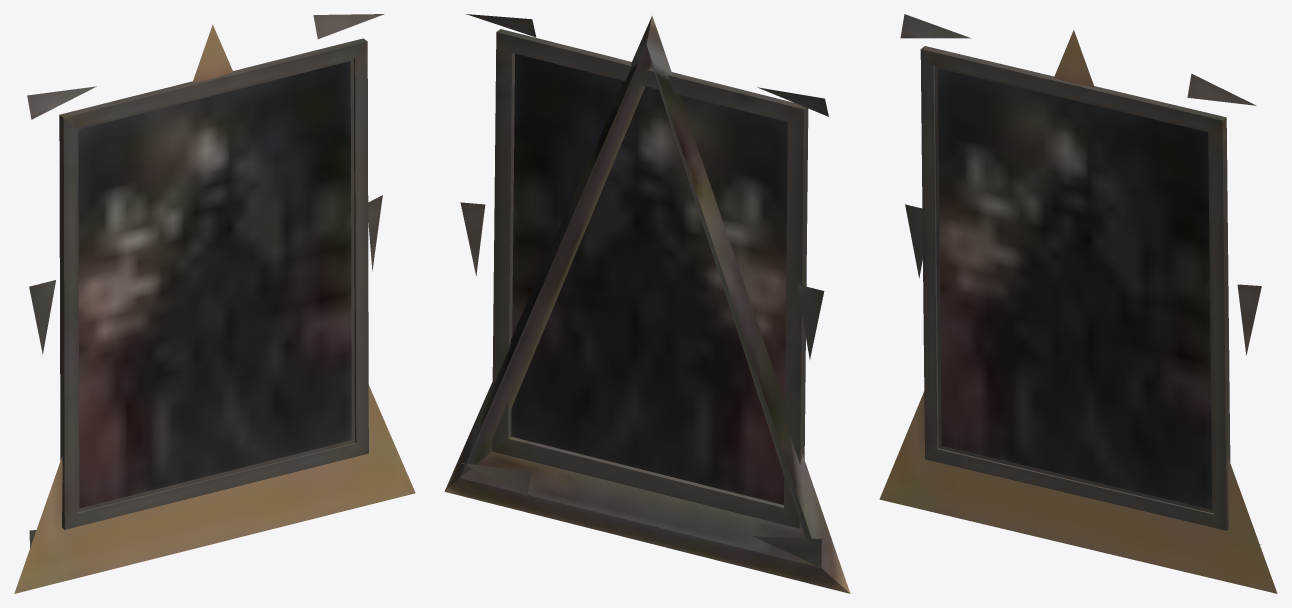
Rendered from painting-hall-10.lod1.glb.
3 renders of one model, left to right at view 1: azimuth 30°, elevation 25°; view 2: azimuth 150°, elevation 25°; view 3: azimuth 330°, elevation 25°, orthographic.
Parts seen in each view (by area): view 1: painting-hall-10; view 2: painting-hall-10; view 3: painting-hall-10.
Boxes of the visible parts, x1=… form: painting-hall-10: x1=14, y1=14, x2=415, y2=593; painting-hall-10: x1=444, y1=14, x2=850, y2=593; painting-hall-10: x1=879, y1=14, x2=1277, y2=593.
Size of the model in its own units: 0.5224 by 0.65 by 0.03.
Materials: 1 (1 with a texture image).
